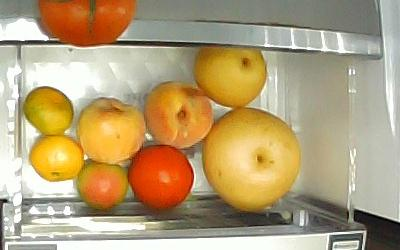peach: (142, 79, 213, 149), (76, 95, 146, 164)
pear: (200, 105, 300, 212), (192, 45, 267, 108)
tangerine: (21, 84, 74, 135), (28, 133, 83, 182)
tomato: (126, 142, 194, 208), (74, 157, 129, 209)
